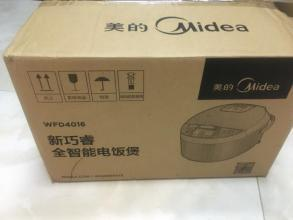cardboard: (5, 0, 292, 181)
